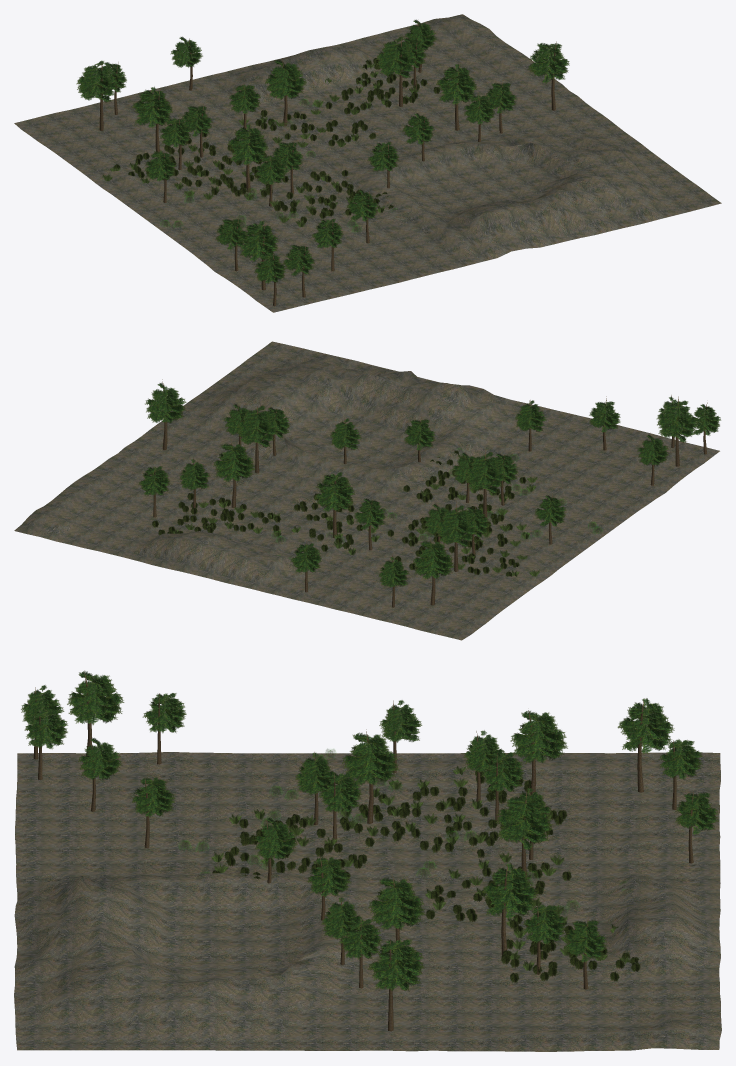
3 views of the same model, one above another, from view 1: azimuth 30°, elevation 25°; view 2: azimuth 150°, elevation 25°; view 3: azimuth 270°, elevation 25° (orthographic). The views are drawn at different scales.
Parts seen in each view (by area): view 1: Object_2, Object_8, Object_9, Object_11, Object_14, Object_12, Object_10; view 2: Object_2, Object_8, Object_9, Object_11, Object_14, Object_12, Object_10; view 3: Object_2, Object_8, Object_9, Object_11, Object_14, Object_12, Object_10.
Boxes of the visible parts, x1,y1,x2,y2 form: Object_2: [14, 14, 721, 312]; Object_8: [76, 36, 569, 283]; Object_9: [227, 19, 516, 184]; Object_11: [114, 58, 440, 223]; Object_14: [99, 21, 556, 306]; Object_12: [102, 62, 418, 227]; Object_10: [160, 98, 397, 232]; Object_2: [14, 341, 719, 640]; Object_8: [145, 383, 720, 587]; Object_9: [138, 404, 518, 529]; Object_11: [152, 450, 526, 576]; Object_14: [153, 379, 707, 607]; Object_12: [171, 454, 539, 576]; Object_10: [271, 448, 602, 558]; Object_2: [14, 752, 721, 1051]; Object_8: [21, 671, 718, 991]; Object_9: [295, 732, 606, 962]; Object_11: [212, 764, 640, 983]; Object_14: [33, 670, 693, 1031]; Object_12: [211, 765, 633, 970]; Object_10: [178, 749, 626, 914].
Bounding box in the file's own units: 16.45 × 2.5 × 16.13.
Materials: 6 (6 with a texture image).
